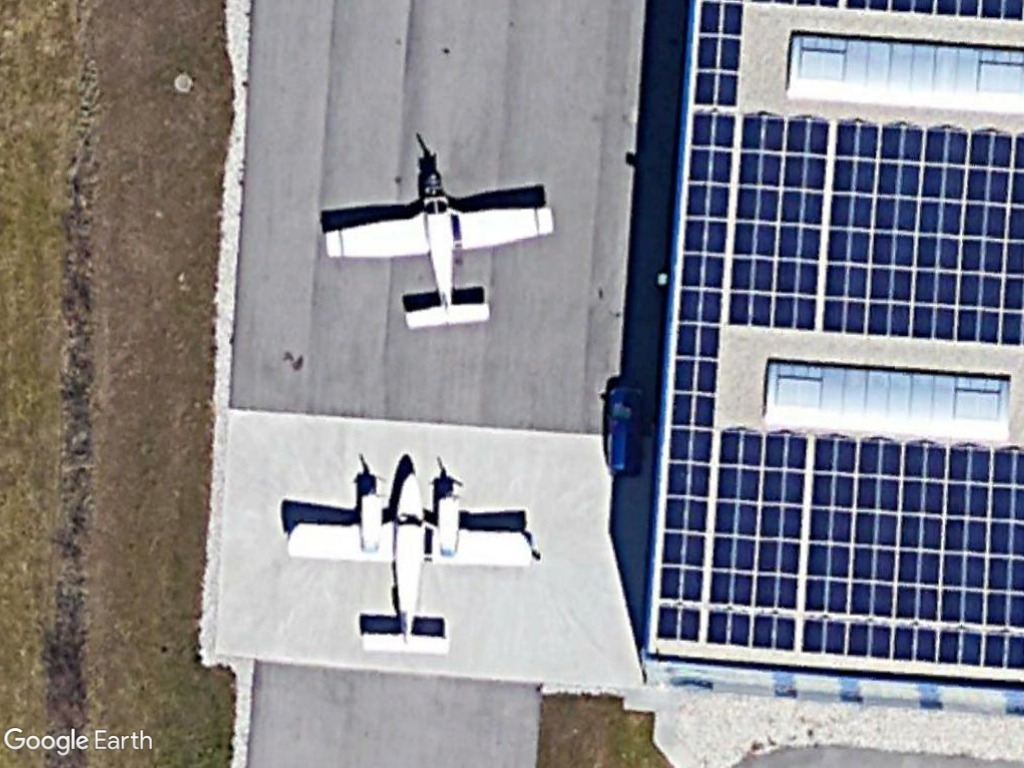propeller: (283, 467, 544, 657)
trainer: (322, 165, 556, 329)
